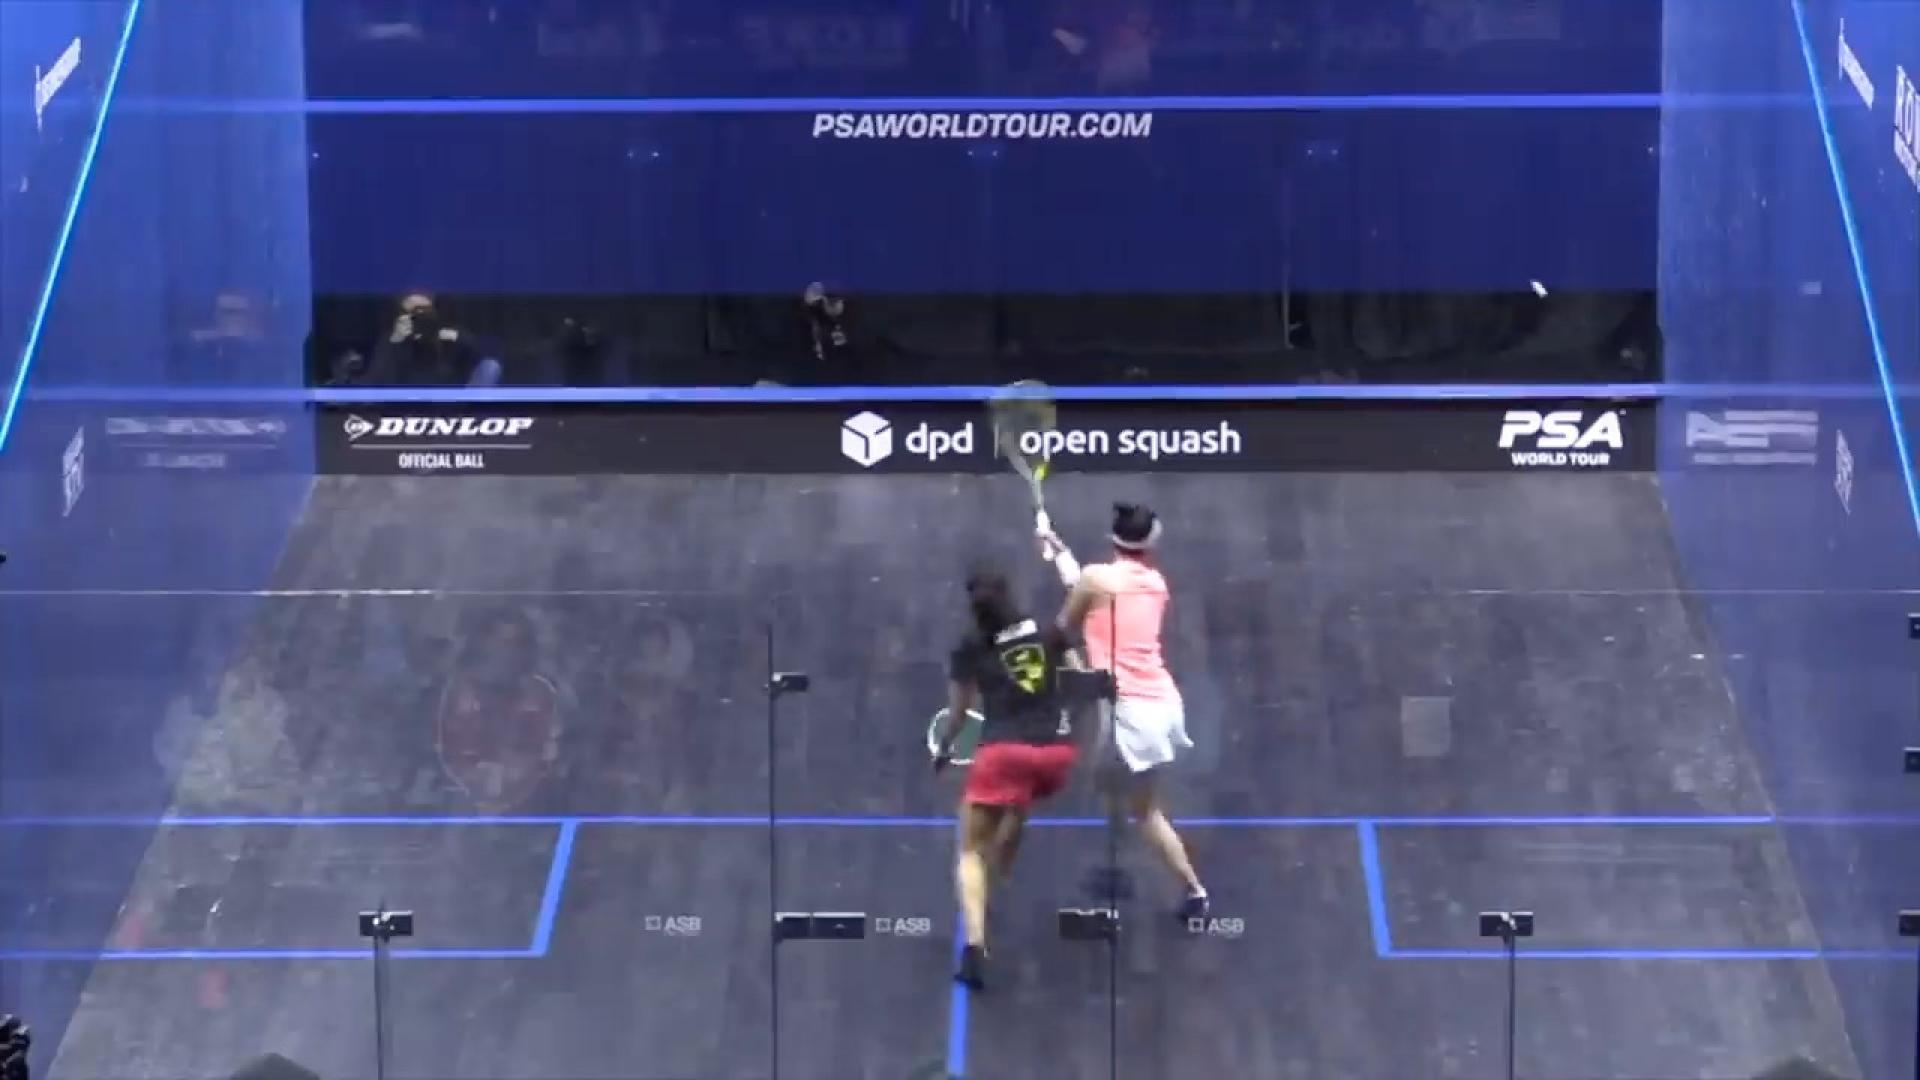Squash-Ball: (1515, 265, 1565, 315)
